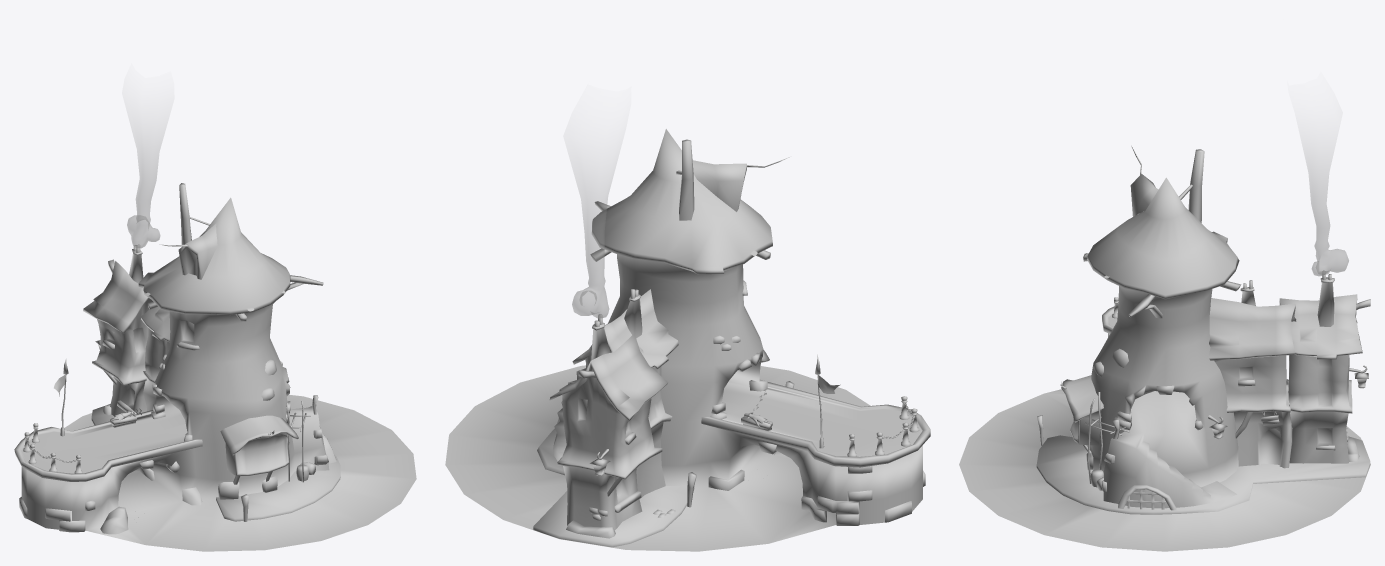
The picture shows the model from 3 angles, left to right: view 1: azimuth 30°, elevation 25°; view 2: azimuth 150°, elevation 25°; view 3: azimuth 270°, elevation 25°; orthographic projection. The views are drawn at different scales.
Visible parts, largest first — view 1: houses, smoke; view 2: houses, smoke; view 3: houses, smoke.
Boxes of the visible parts, bbox=[...] form: houses: bbox=[14, 183, 416, 551]; smoke: bbox=[126, 107, 168, 248]; houses: bbox=[445, 129, 930, 551]; smoke: bbox=[568, 150, 619, 318]; houses: bbox=[959, 146, 1370, 551]; smoke: bbox=[1301, 134, 1348, 276].
Size of what is drawn, in the model's own units: 14.84 by 15.76 by 13.32.
